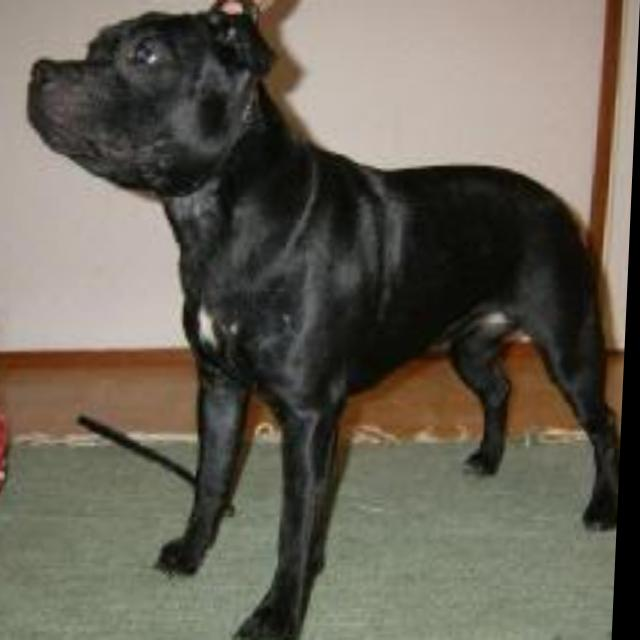staffford: (11, 1, 640, 640)
